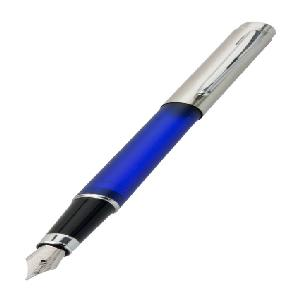pen: (25, 13, 282, 283)
